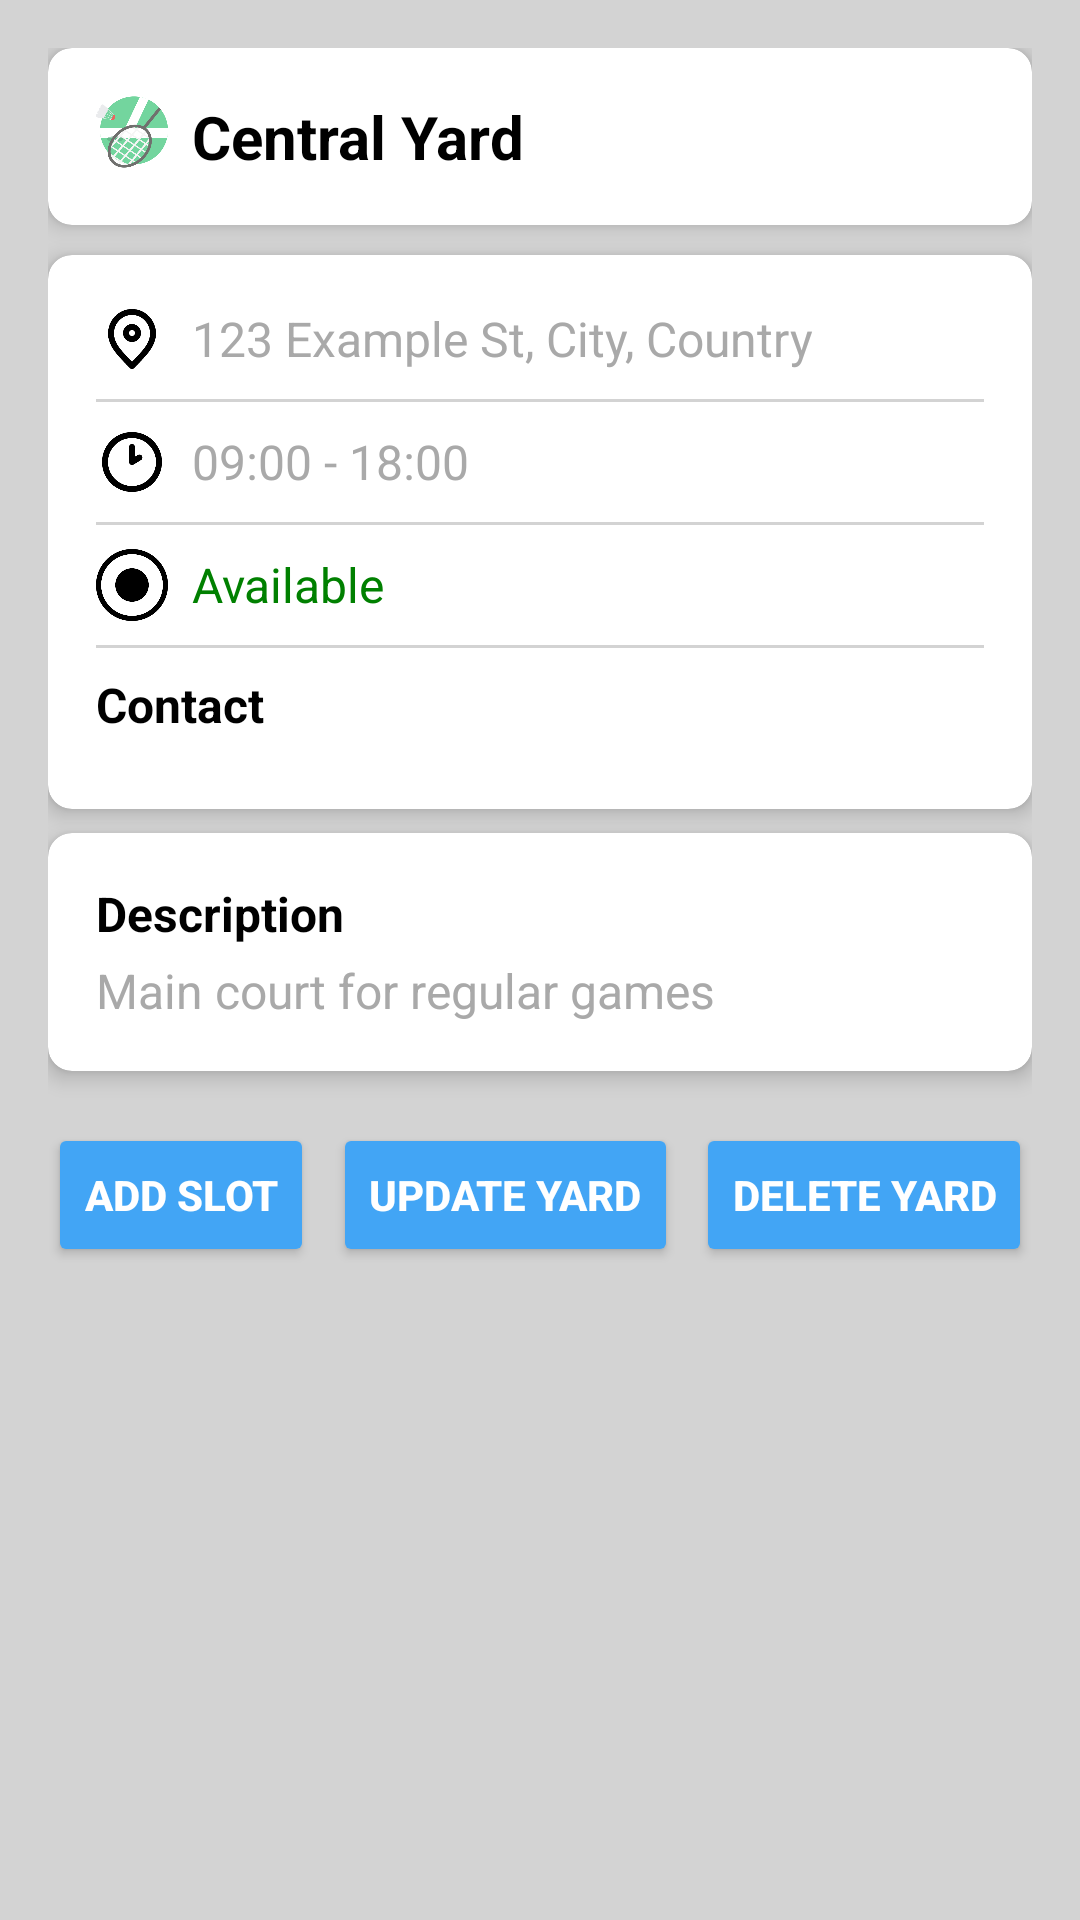

Screen size 1080px×1920px. Icon name, then its center in pixels as (x=x, y=y):
clock: (x=132, y=462)
status: (x=132, y=585)
